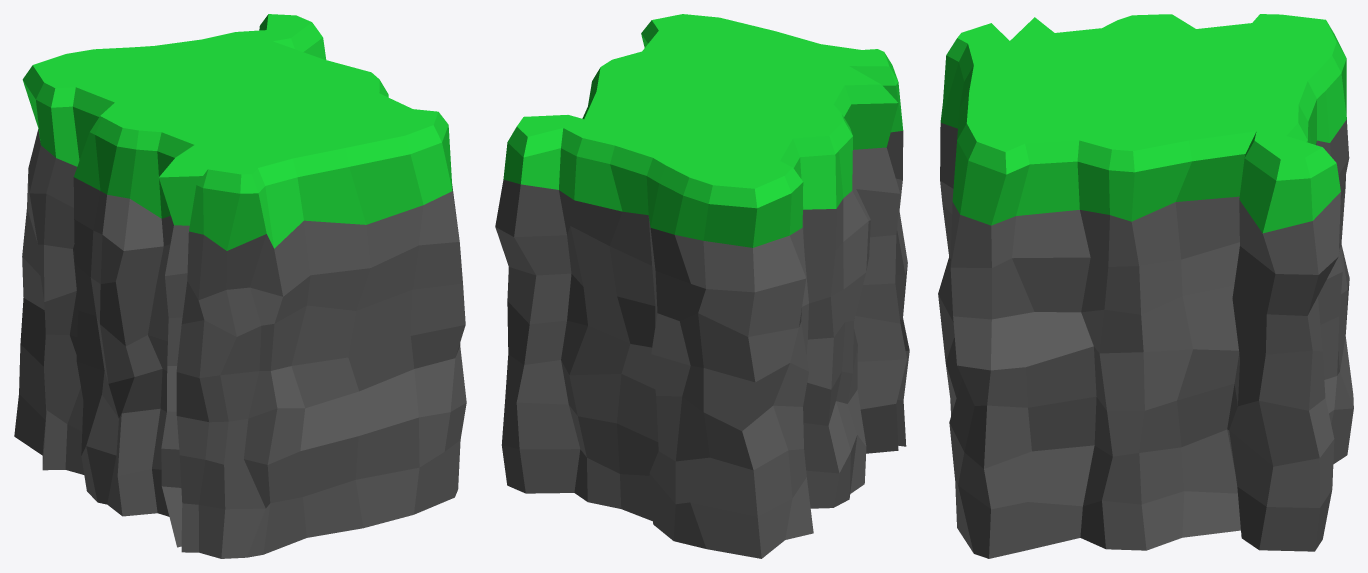
File: cliff_5.fbx
3 views of the same model, side by side, from view 1: azimuth 30°, elevation 25°; view 2: azimuth 150°, elevation 25°; view 3: azimuth 270°, elevation 25° (orthographic). The views are drawn at different scales.
Parts seen in each view (by area): view 1: cliff5; view 2: cliff5; view 3: cliff5.
Part boxes in pixels (<box>): cliff5: <box>14,14,466,558</box>; cliff5: <box>495,14,909,558</box>; cliff5: <box>938,14,1353,558</box>.
Size of the model in its own units: 185 by 223 by 206.
